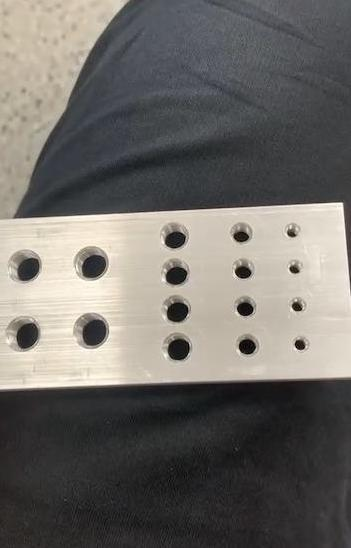hole: (0, 246, 48, 291), (71, 310, 115, 354), (70, 243, 112, 285), (3, 314, 43, 356), (156, 218, 192, 254), (156, 258, 196, 288), (158, 333, 195, 364), (160, 295, 195, 327), (228, 293, 259, 320), (227, 218, 257, 245), (228, 257, 256, 284), (232, 332, 260, 359), (280, 217, 302, 240), (284, 255, 306, 277), (288, 295, 308, 317), (291, 332, 310, 354)
